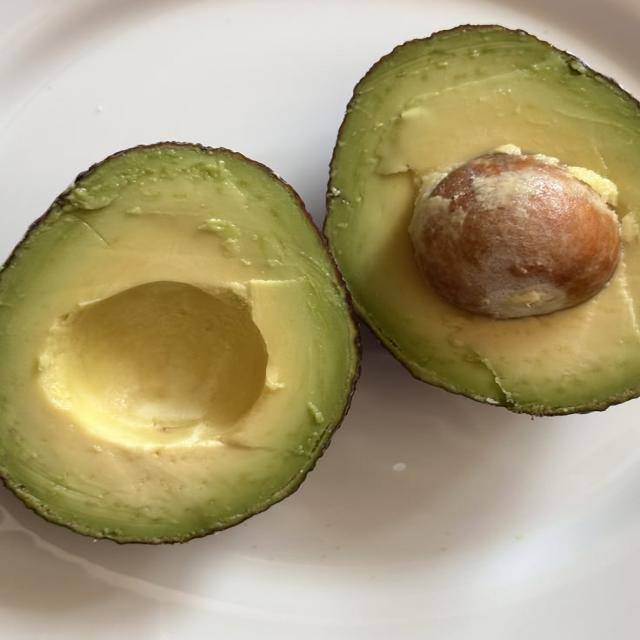avocado: (0, 143, 359, 542), (325, 26, 639, 414)
